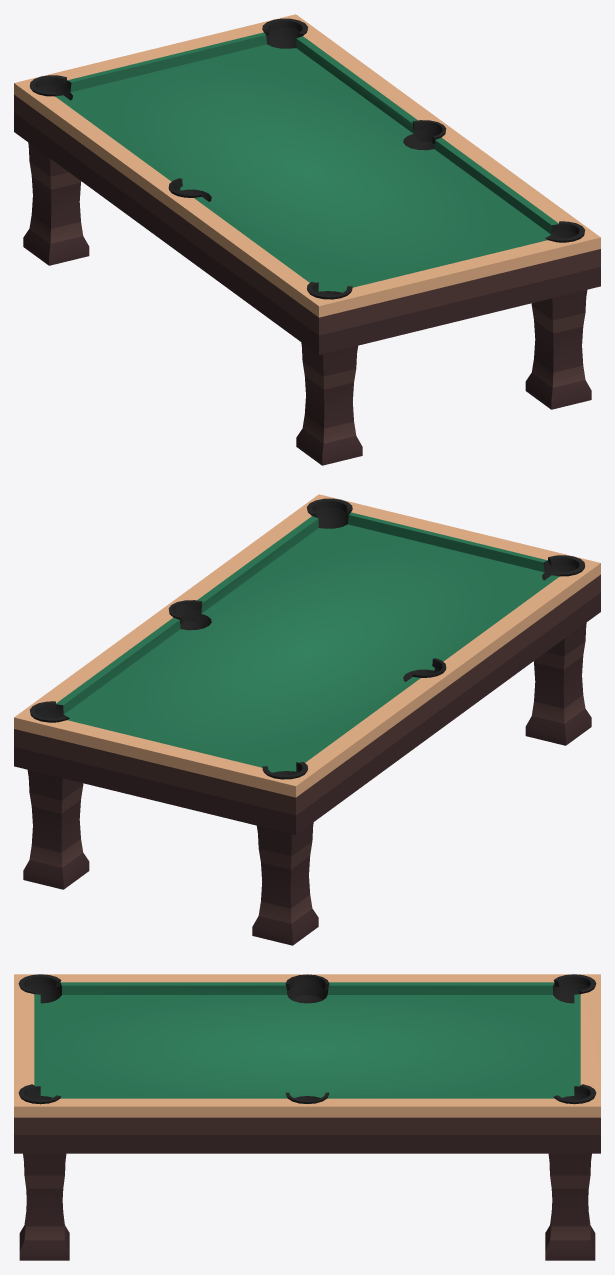
Rendered from Table.fbx.
The picture shows the model from 3 angles, top to bottom: view 1: azimuth 30°, elevation 25°; view 2: azimuth 150°, elevation 25°; view 3: azimuth 270°, elevation 25°; orthographic projection. The views are drawn at different scales.
Parts seen in each view (by area): view 1: Table; view 2: Table; view 3: Table.
Part boxes in pixels (bbox=[...]): Table: bbox=[14, 14, 600, 465]; Table: bbox=[14, 494, 600, 945]; Table: bbox=[14, 974, 600, 1260].
Bounding box in the file's own units: 150 × 84.1 × 281.
